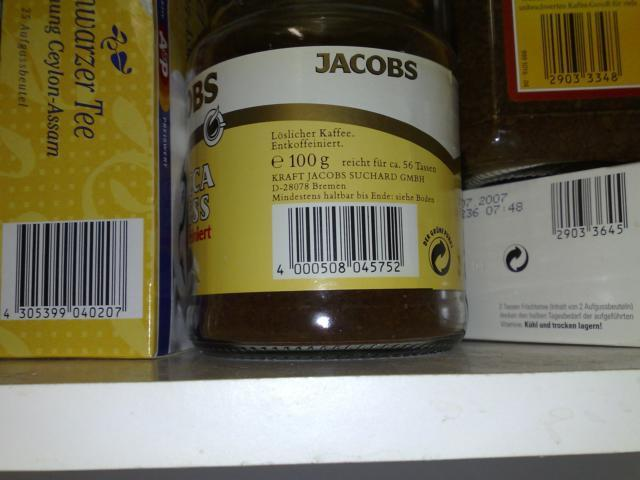Barcode: (0, 221, 133, 321), (273, 203, 420, 278), (533, 8, 630, 88), (546, 168, 634, 247)
